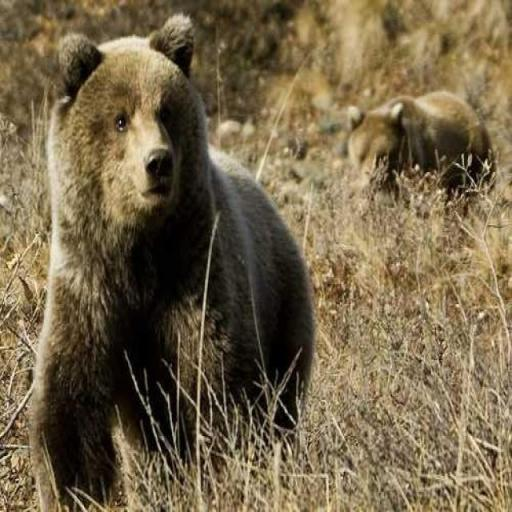Bear: (28, 12, 316, 510), (342, 88, 496, 206)
